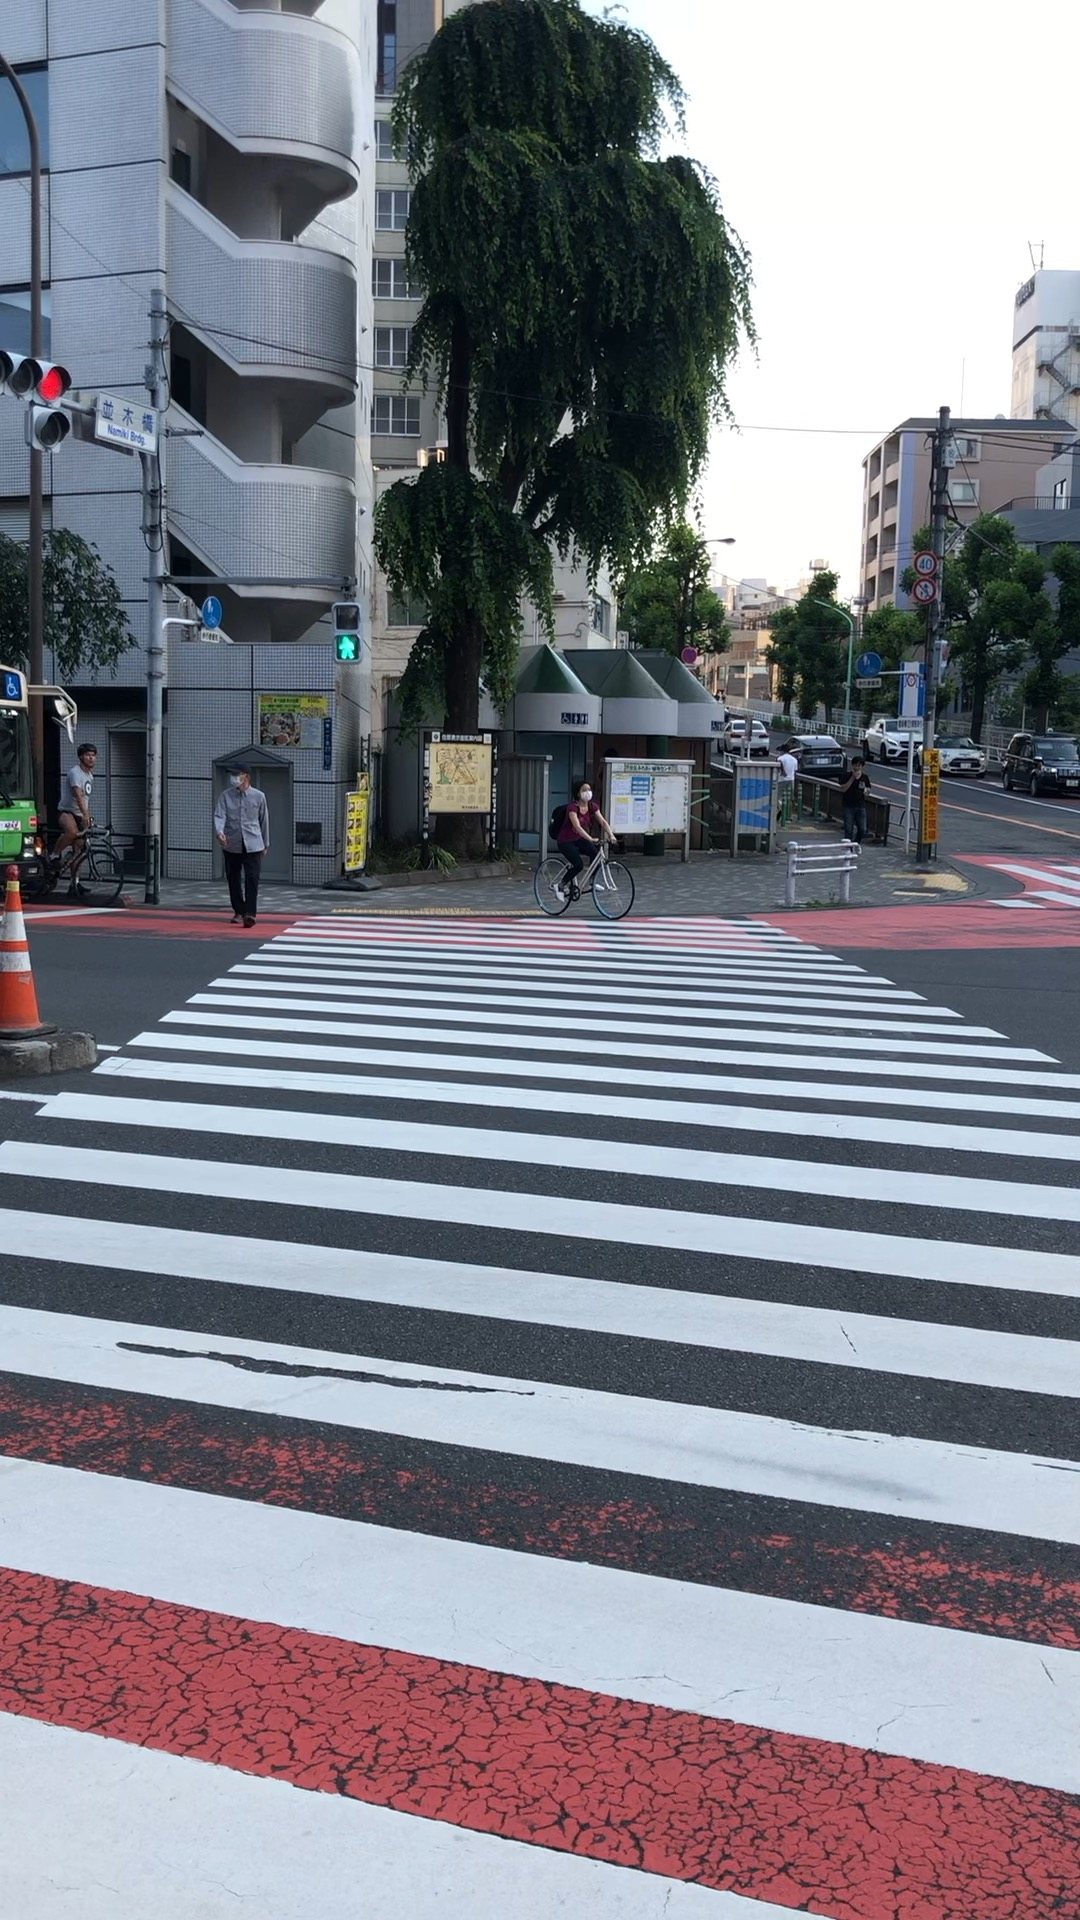green: (330, 603, 363, 665)
